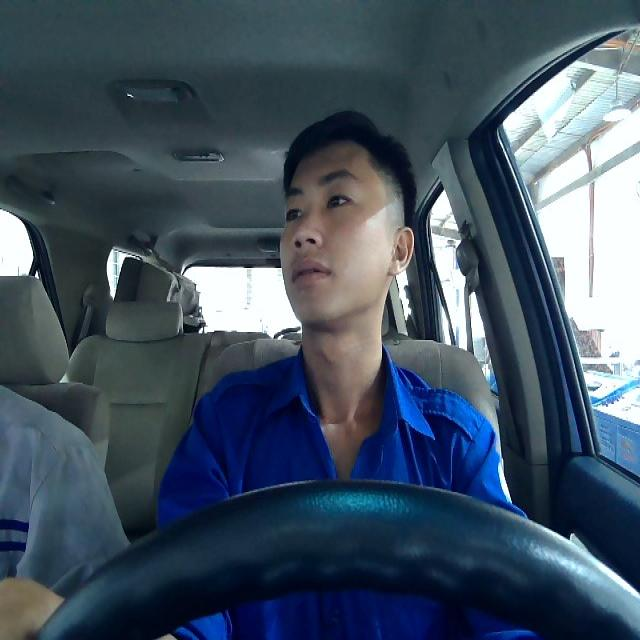seeing_left: (277, 137, 415, 326)
